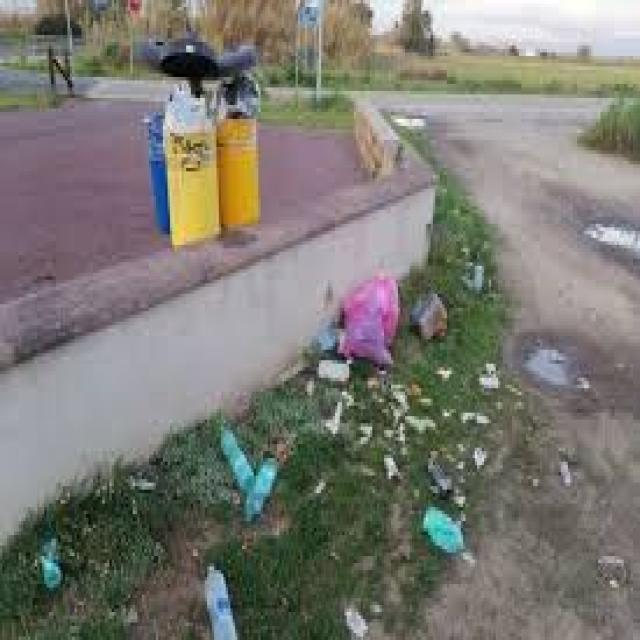sampah-detection: (334, 269, 408, 372), (210, 425, 284, 525), (193, 558, 252, 640), (412, 494, 471, 565), (214, 70, 266, 129), (409, 282, 454, 350), (164, 79, 214, 133), (32, 532, 71, 599), (336, 594, 379, 640)
